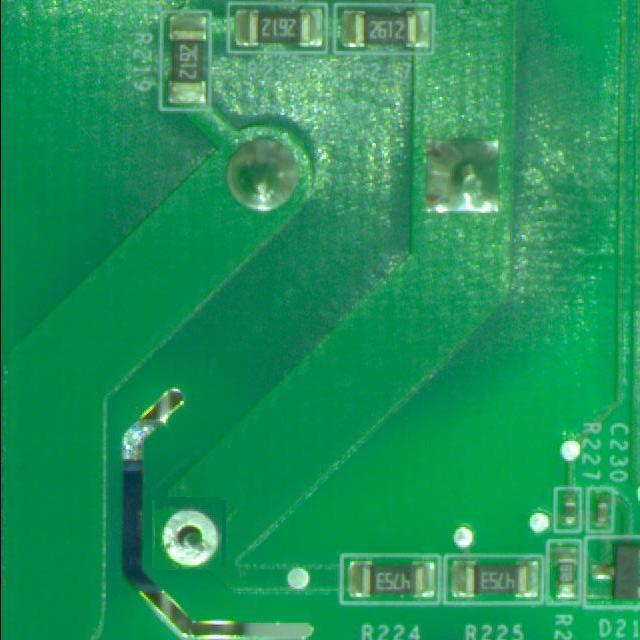lack_of_part: (154, 498, 224, 569)
